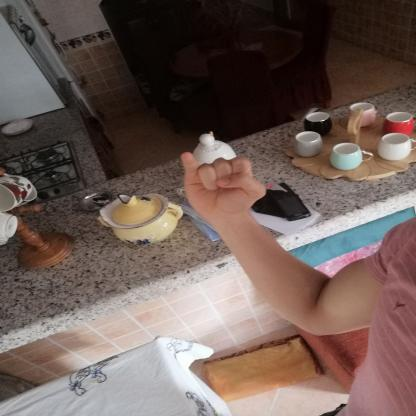MEEM: (169, 140, 273, 233)
